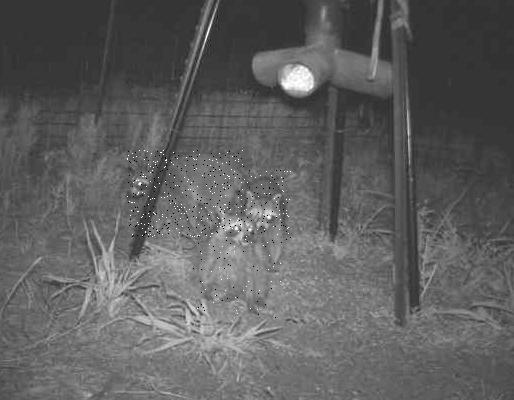Raccoon: (193, 200, 281, 319), (128, 150, 246, 237), (242, 170, 292, 243)
